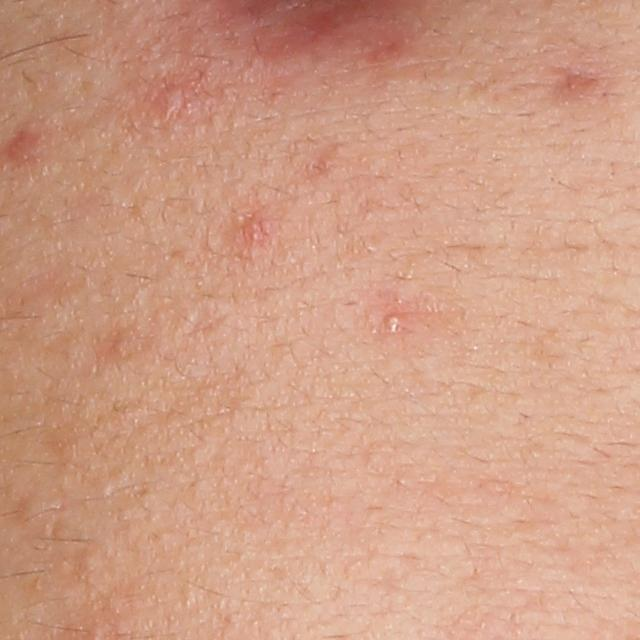comedo: (82, 550, 103, 570)
papule: (155, 68, 207, 118), (1, 124, 44, 168)
pustule: (379, 309, 409, 340)
